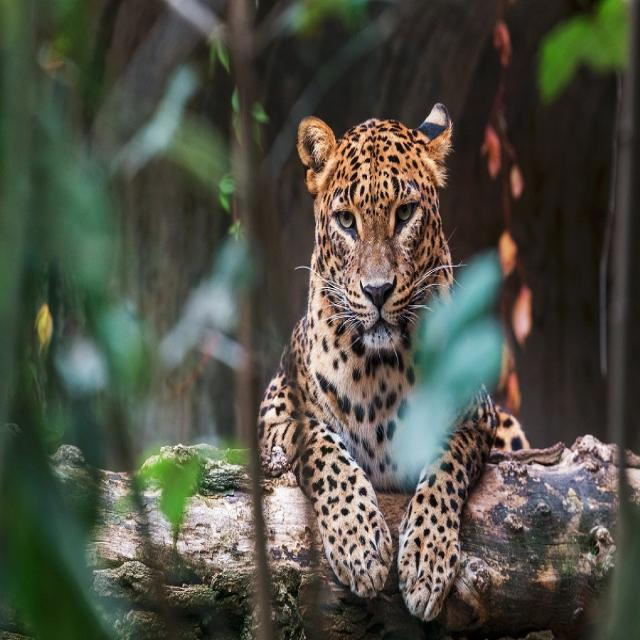Leopard: (254, 109, 508, 633)
